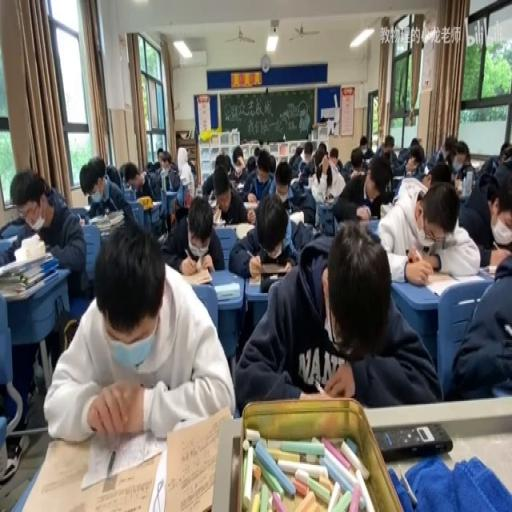calculator: (13, 430, 165, 510), (158, 404, 232, 510), (418, 272, 472, 297), (88, 208, 123, 233), (178, 267, 212, 286), (213, 282, 241, 300), (363, 218, 380, 238), (233, 222, 254, 237), (477, 263, 496, 279), (289, 209, 304, 226), (379, 200, 393, 218), (211, 205, 224, 222), (248, 273, 261, 285), (391, 174, 403, 186), (306, 175, 316, 188), (242, 201, 258, 209), (146, 199, 160, 208), (289, 176, 301, 186), (157, 232, 167, 244), (207, 196, 216, 206), (236, 180, 245, 190), (195, 183, 202, 195), (422, 165, 429, 175), (77, 214, 84, 224)
paper: (48, 217, 234, 441), (234, 219, 436, 412), (2, 168, 88, 298), (378, 176, 480, 282), (450, 233, 511, 401), (160, 191, 224, 273), (356, 151, 394, 219), (286, 154, 322, 224), (241, 148, 275, 203), (199, 154, 237, 200), (150, 149, 182, 202), (123, 160, 156, 204), (398, 135, 426, 176), (492, 192, 512, 233), (331, 196, 359, 225), (492, 154, 511, 194), (344, 145, 366, 179), (452, 142, 470, 176), (428, 160, 450, 184), (274, 160, 291, 190), (104, 162, 121, 189), (313, 146, 326, 178), (288, 145, 302, 171), (176, 146, 188, 176), (358, 135, 373, 158), (443, 135, 458, 157), (231, 145, 243, 169), (382, 135, 394, 157), (499, 141, 511, 159), (245, 154, 255, 172), (187, 159, 196, 179), (328, 148, 338, 165), (446, 154, 455, 169), (269, 155, 275, 172), (161, 158, 170, 169), (304, 148, 311, 162), (253, 145, 259, 161), (156, 148, 163, 161), (146, 160, 154, 170), (410, 138, 416, 151)
person: (374, 422, 451, 461), (260, 274, 288, 294), (260, 260, 288, 276), (325, 193, 334, 202), (370, 215, 378, 219)
